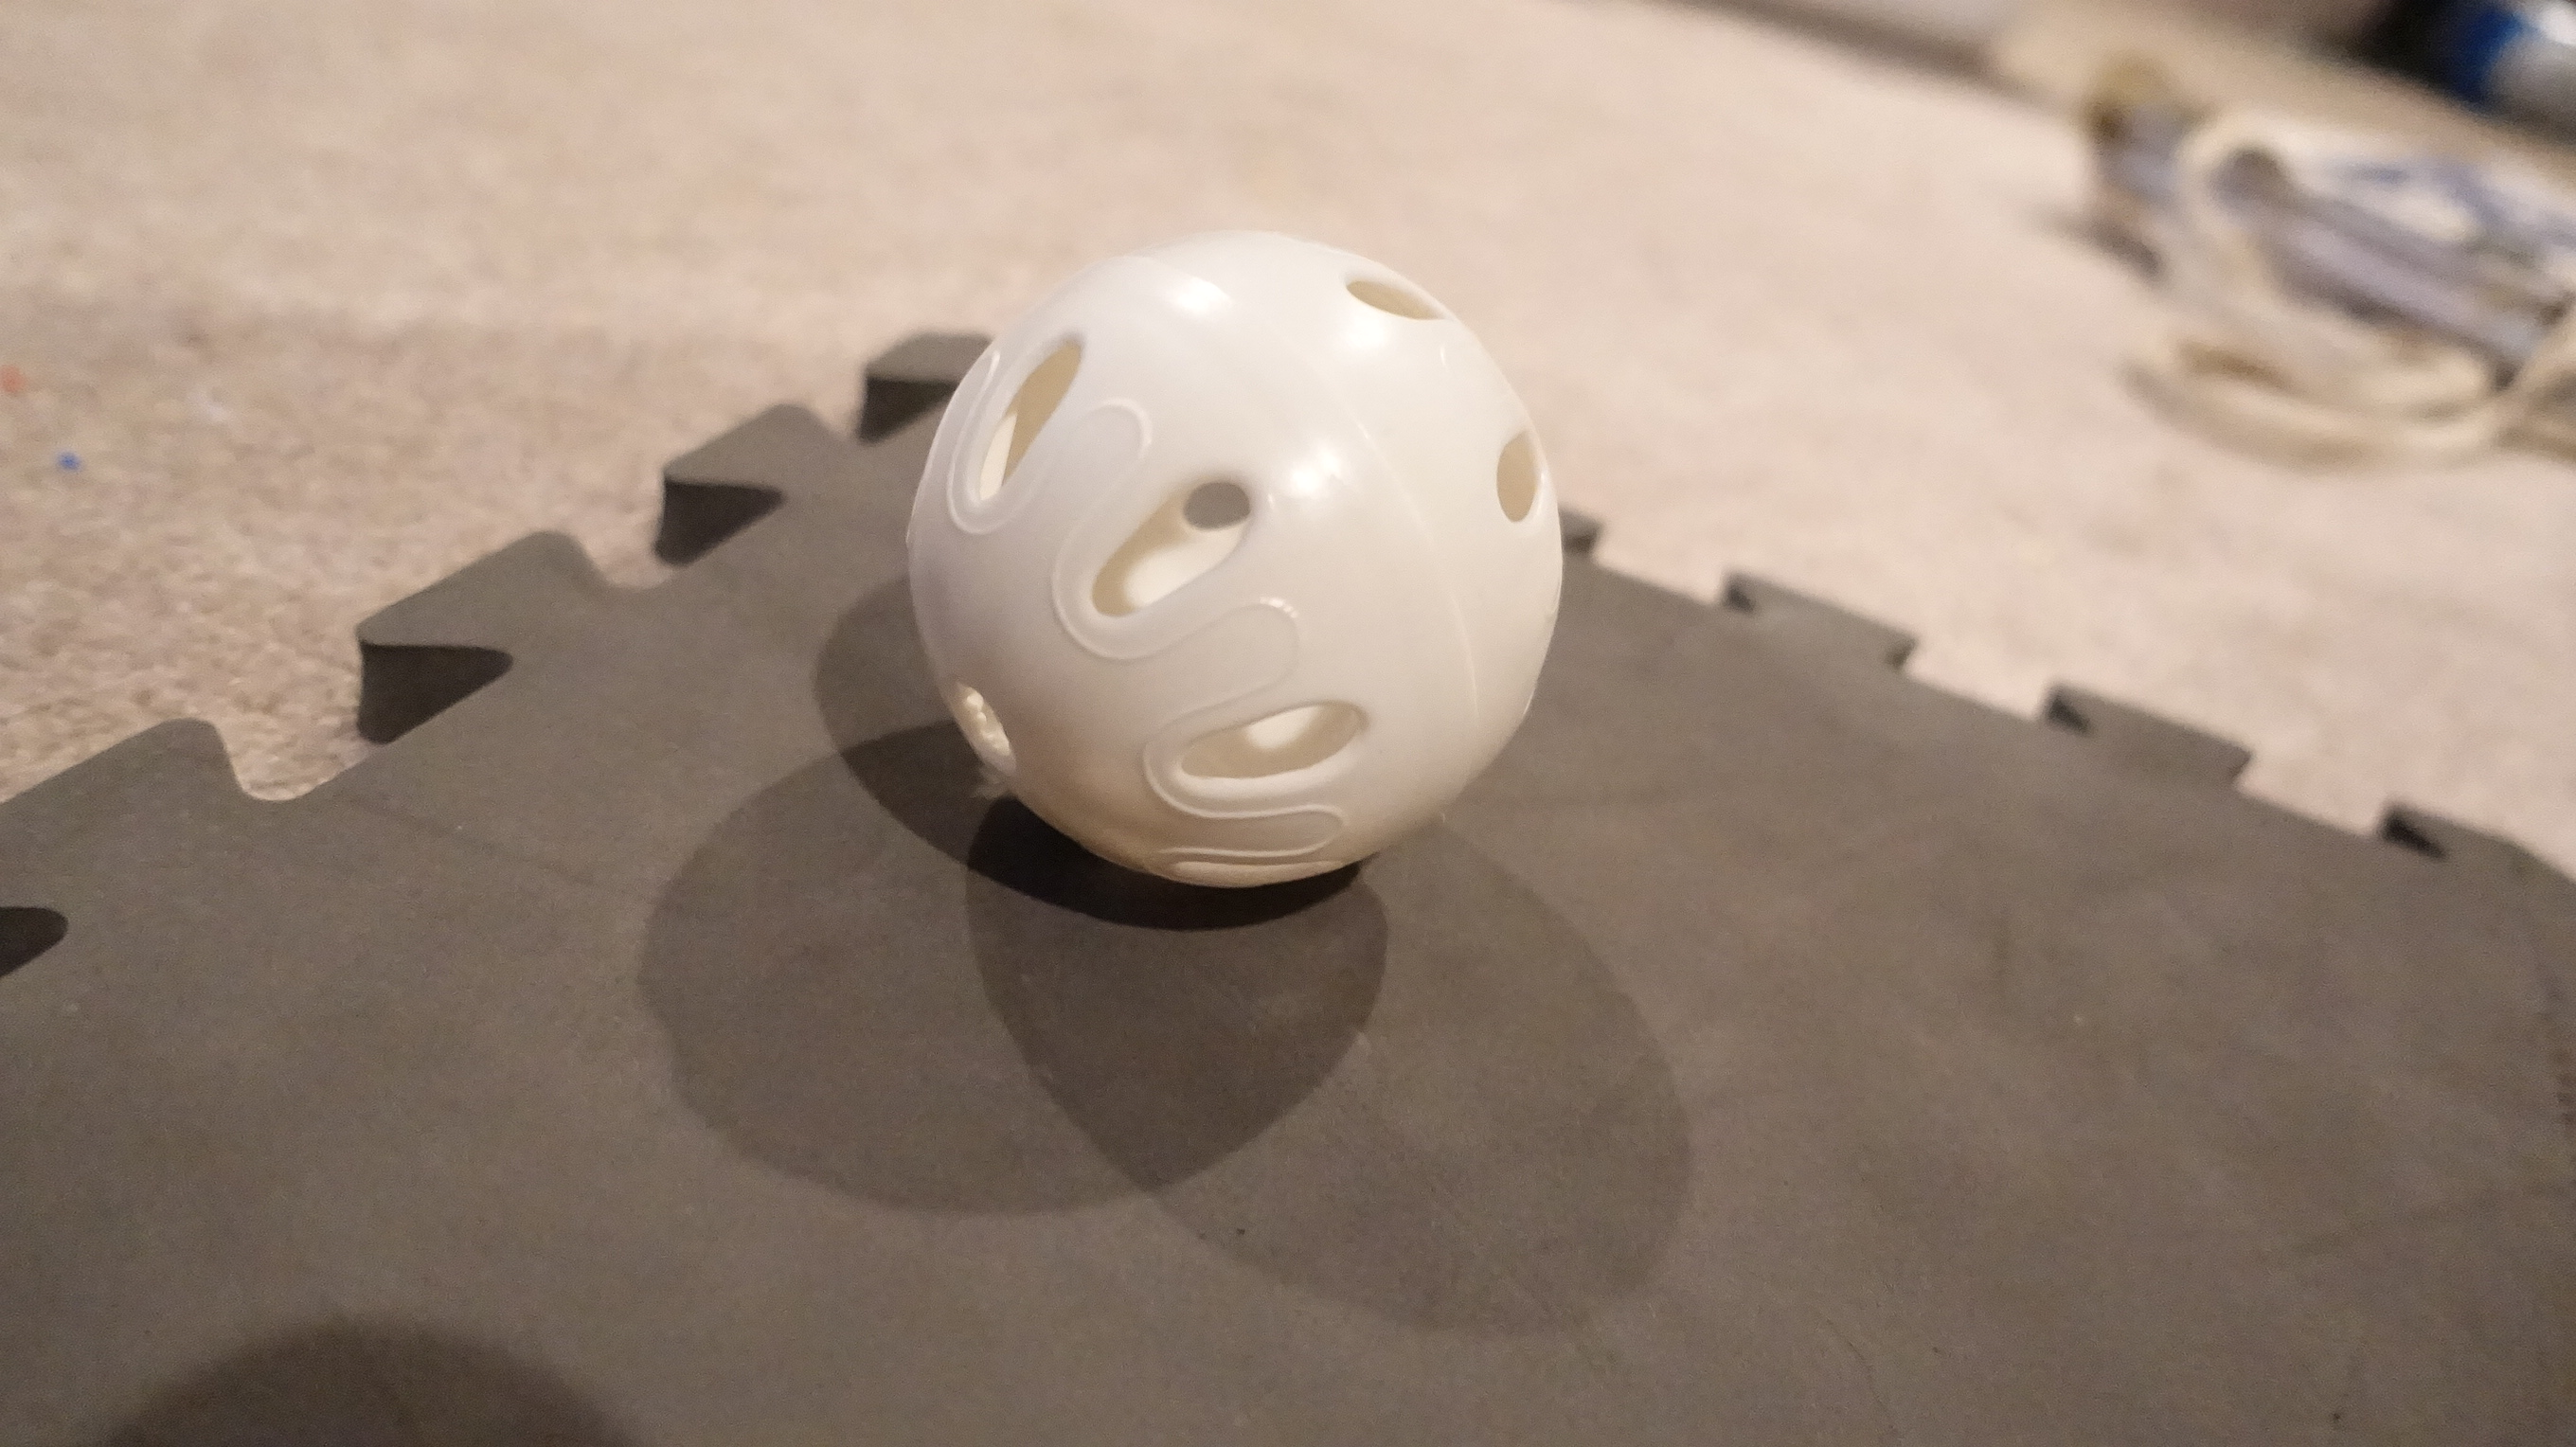silver: (911, 225, 1564, 915)
